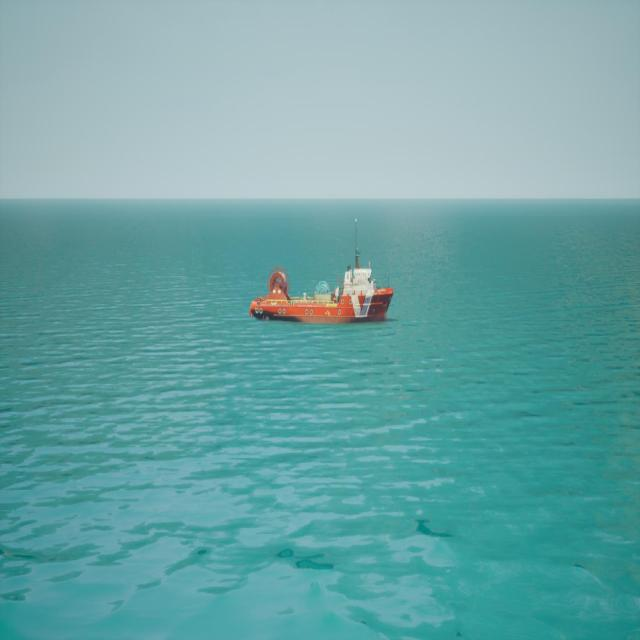tug boat: (252, 220, 398, 326)
